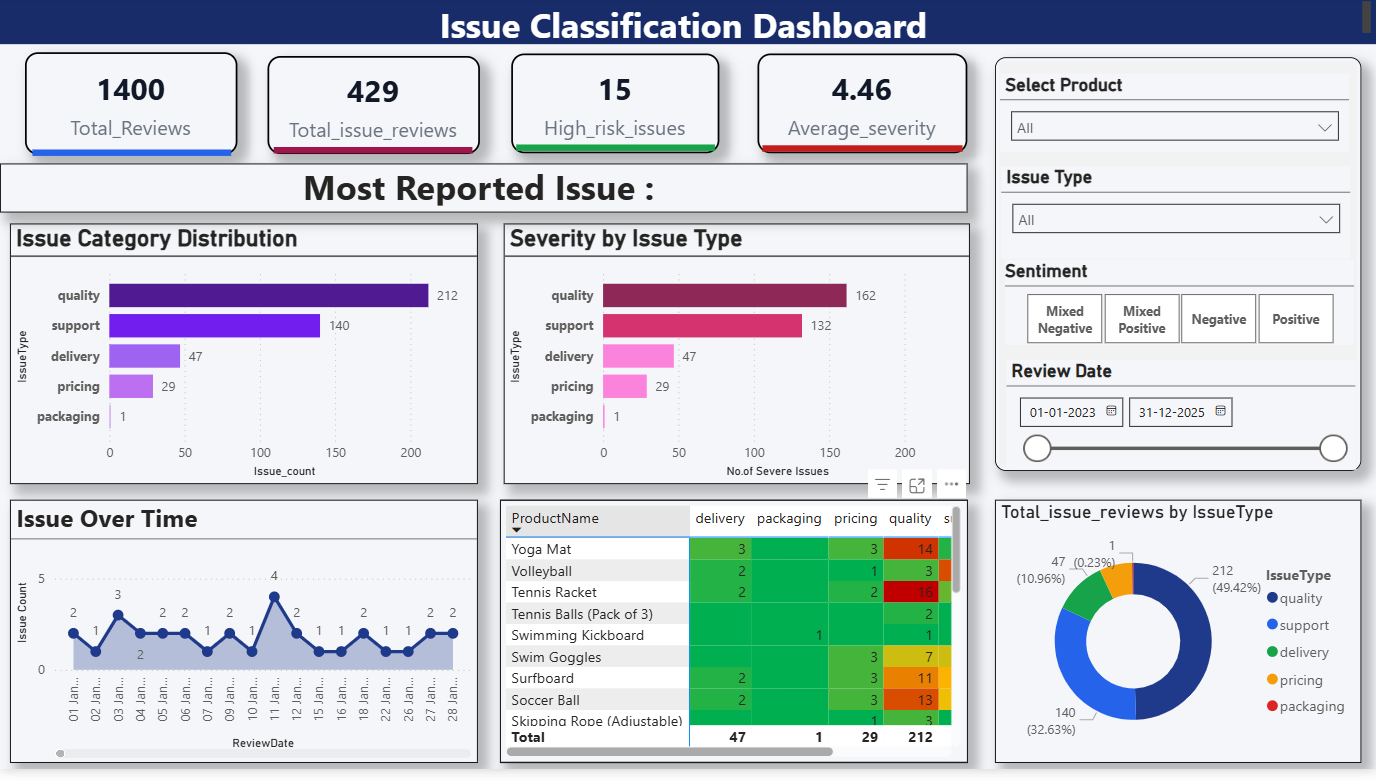

The page's visual inventory and layout, read from the dashboard file:
{"tool":"powerbi","page":{"name":"Issue Classification Dshboard","canvas":[1280,720],"ordinal":4},"visuals":[{"type":"shape","box":[925.6,57,340.7,384.9],"z":0},{"type":"card","fields":{"Values":["final_ai_output.Total_Reviews"]},"box":[23.5,52.3,197.5,95],"z":1000},{"type":"card","fields":{"Values":["final_ai_output.Total_issue_reviews"]},"box":[248.4,55.5,197.5,91.2],"z":2000},{"type":"card","fields":{"Values":["final_ai_output.Average_severity"]},"box":[704.7,53.7,195,92.5],"z":3000},{"type":"card","fields":{"Values":["final_ai_output.High_risk_issues"]},"box":[475.4,53.5,193.8,92.5],"z":4000},{"type":"clusteredBarChart","title":"Issue Category Distribution","fields":{"Category":["final_ai_output.IssueType"],"Y":["final_ai_output.Issue_count"]},"box":[8.8,211.2,435,242.5],"z":5000},{"type":"clusteredBarChart","title":"Severity by Issue Type","fields":{"Category":["final_ai_output.IssueType"],"Y":["fact_ai_product_recommendations.Severity Index"]},"box":[468.8,211.2,433.8,242.5],"z":6000},{"type":"lineChart","title":"Issue Over Time","fields":{"Y":["final_ai_output.Issue_count"],"Category":["final_ai_output.ReviewDate"]},"box":[8.8,468.8,435,245],"z":7000},{"type":"pivotTable","title":"Issue Over Time","fields":{"Values":["final_ai_output.Issue_count"],"Columns":["final_ai_output.IssueType"],"Rows":["final_ai_output.ProductName"]},"box":[465,468.8,435,245],"z":8000},{"type":"slicer","title":"Select Product","fields":{"Values":["final_ai_output.ProductName"]},"box":[930.5,72,325,72.5],"z":9000},{"type":"slicer","title":"Sentiment","fields":{"Values":["final_ai_output.SentimentBucket"]},"box":[934.4,244.9,324.4,79.1],"z":10000},{"type":"slicer","title":"Issue Type","fields":{"Values":["final_ai_output.IssueType"]},"box":[931.8,158.2,325,86.2],"z":11000},{"type":"slicer","title":"Review Date","fields":{"Values":["final_ai_output.ReviewDate"]},"box":[935.5,338.2,325,101.2],"z":12000},{"type":"textbox","box":[0,0,1280,45],"z":13000},{"type":"card","fields":{"Values":["_Calculations.Top Issue Name"]},"box":[0,155.8,900,45.3],"z":14000},{"type":"shape","box":[29.7,81.1,185,128.8],"z":15000},{"type":"shape","box":[254.7,79.3,185,128.8],"z":16000},{"type":"shape","box":[480.4,77.2,185,128.8],"z":17000},{"type":"shape","box":[709.1,78.1,186,127.9],"z":18000},{"type":"donutChart","fields":{"Y":["final_ai_output.Total_issue_reviews"],"Category":["final_ai_output.IssueType"]},"box":[926,469,341,245],"z":19000}]}

Visuals, with their boxes in screenshot pixels (x1, y1, x2, y2), scaled from the page's 1280x720 canvas onto the 1376x781 screenshot:
shape: box(995, 62, 1361, 479)
card - final_ai_output.Total_Reviews: box(25, 57, 238, 160)
card - final_ai_output.Total_issue_reviews: box(267, 60, 479, 159)
card - final_ai_output.Average_severity: box(758, 58, 967, 159)
card - final_ai_output.High_risk_issues: box(511, 58, 719, 158)
"Issue Category Distribution" clusteredBarChart: box(9, 229, 477, 492)
"Severity by Issue Type" clusteredBarChart: box(504, 229, 970, 492)
"Issue Over Time" lineChart: box(9, 509, 477, 774)
"Issue Over Time" pivotTable: box(500, 509, 968, 774)
"Select Product" slicer: box(1000, 78, 1350, 157)
"Sentiment" slicer: box(1004, 266, 1353, 351)
"Issue Type" slicer: box(1002, 172, 1351, 265)
"Review Date" slicer: box(1006, 367, 1355, 477)
textbox: box(0, 0, 1375, 49)
card - _Calculations.Top Issue Name: box(0, 169, 968, 218)
shape: box(32, 88, 231, 228)
shape: box(274, 86, 473, 226)
shape: box(516, 84, 715, 223)
shape: box(762, 85, 962, 223)
donutChart - final_ai_output.Total_issue_reviews x final_ai_output.IssueType: box(995, 509, 1362, 774)
